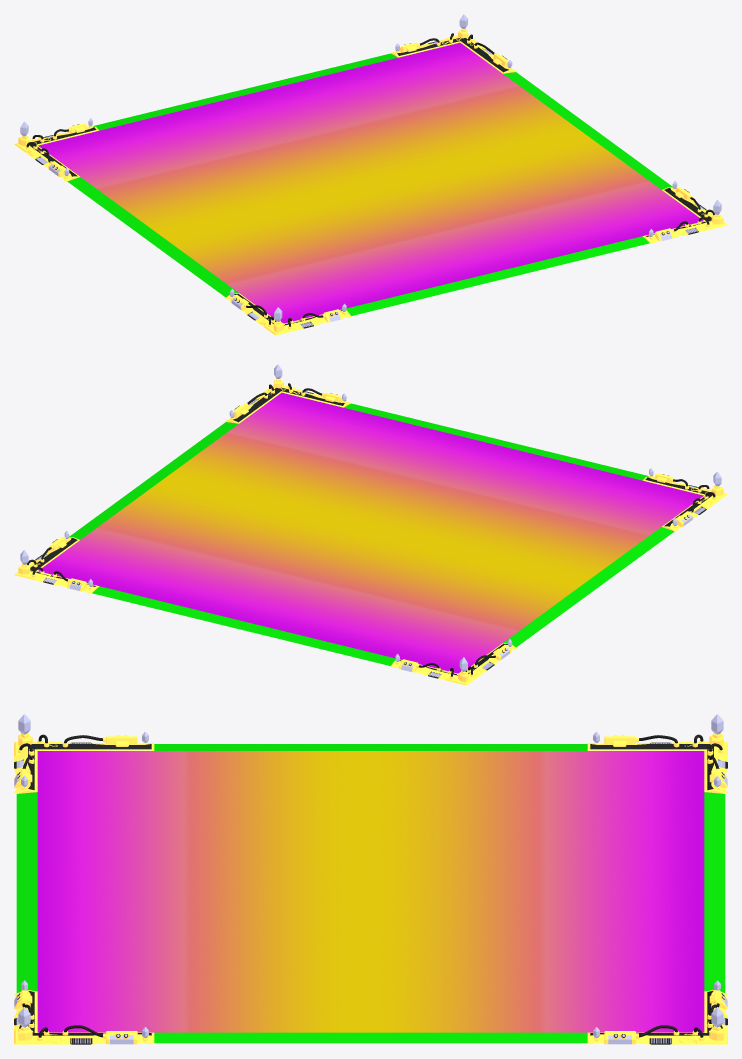
The model's file is NFT_golden_12x12.fbx.
3 renders of one model, top to bottom at view 1: azimuth 30°, elevation 25°; view 2: azimuth 150°, elevation 25°; view 3: azimuth 270°, elevation 25°, orthographic. The views are drawn at different scales.
Visible parts, largest first — view 1: _screen_low1, walkways, frame_main (×4); view 2: _screen_low1, walkways, frame_main (×4); view 3: _screen_low1, walkways, frame_main (×4).
Part boxes in pixels (x1,y1,x2,y2): _screen_low1: (38, 42, 703, 323); walkways: (67, 53, 672, 315); frame_main (×4): (14, 37, 727, 335); _screen_low1: (38, 392, 703, 673); walkways: (69, 403, 674, 665); frame_main (×4): (14, 387, 727, 685); _screen_low1: (37, 751, 704, 1032); walkways: (16, 744, 725, 1043); frame_main (×4): (14, 742, 727, 1044).
Bounding box in the file's own units: 472 × 25.22 × 472.
5 materials, 1 textured.
